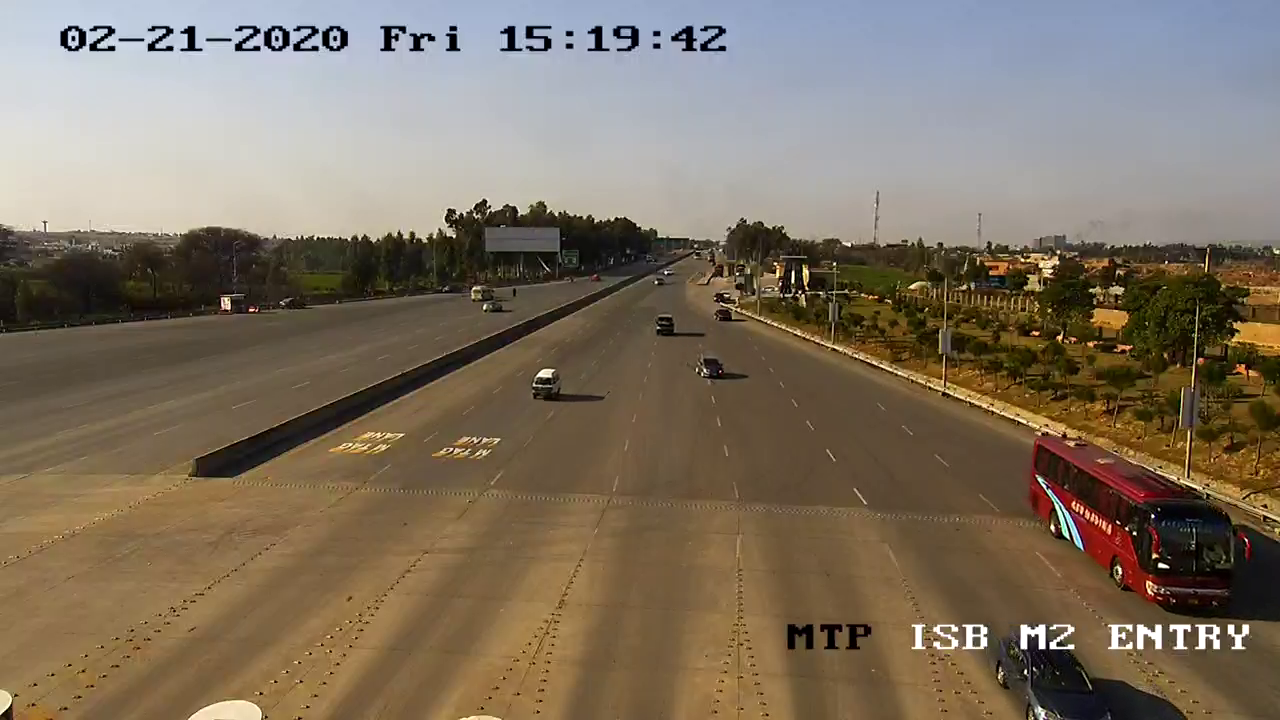f1: (525, 357, 564, 405)
f4: (1024, 423, 1256, 624)
